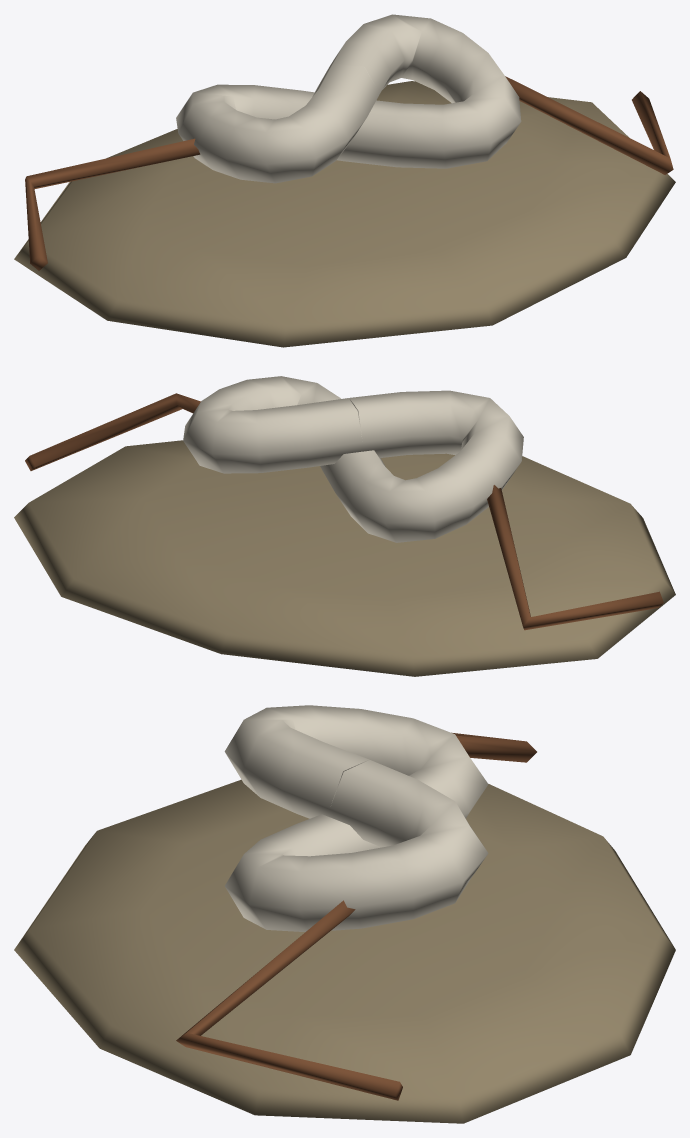
File: col_bone_charm.glb
The picture shows the model from 3 angles, top to bottom: view 1: azimuth 30°, elevation 25°; view 2: azimuth 150°, elevation 25°; view 3: azimuth 270°, elevation 25°; orthographic projection. The views are drawn at different scales.
Visible parts, largest first — view 1: col_bone_charm; view 2: col_bone_charm; view 3: col_bone_charm.
Boxes of the visible parts, x1,y1,x2,y2 form: col_bone_charm: (14, 14, 675, 347); col_bone_charm: (14, 376, 675, 676); col_bone_charm: (14, 705, 675, 1123).
Size of what is drawn, in the model's own units: 0.3273 by 0.0765 by 0.2488.
